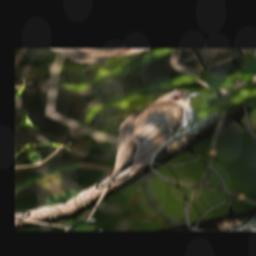Cuckoo: (34, 80, 248, 223)
